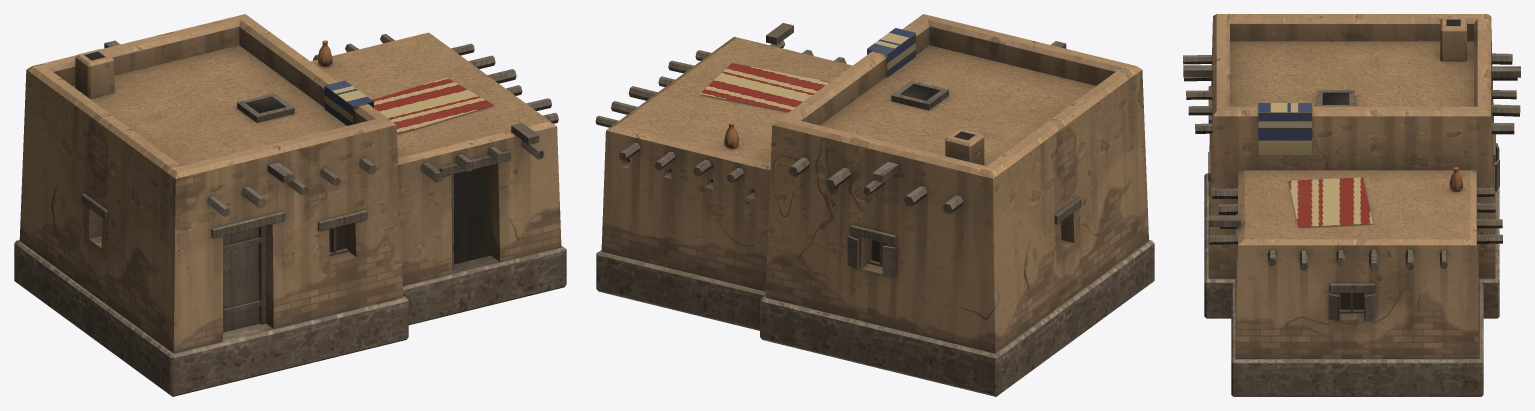
The picture shows the model from 3 angles, left to right: view 1: azimuth 30°, elevation 25°; view 2: azimuth 150°, elevation 25°; view 3: azimuth 270°, elevation 25°; orthographic projection. The views are drawn at different scales.
Visible parts, largest first — view 1: vh_h50d; view 2: vh_h50d; view 3: vh_h50d.
Part boxes in pixels (box(x1,y1,x2,y2)): vh_h50d: box(14, 14, 566, 396); vh_h50d: box(595, 14, 1154, 396); vh_h50d: box(1183, 14, 1520, 396).
Size of the model in its own units: 7.78 by 3.95 by 5.64.
Materials: 1 (1 with a texture image).
